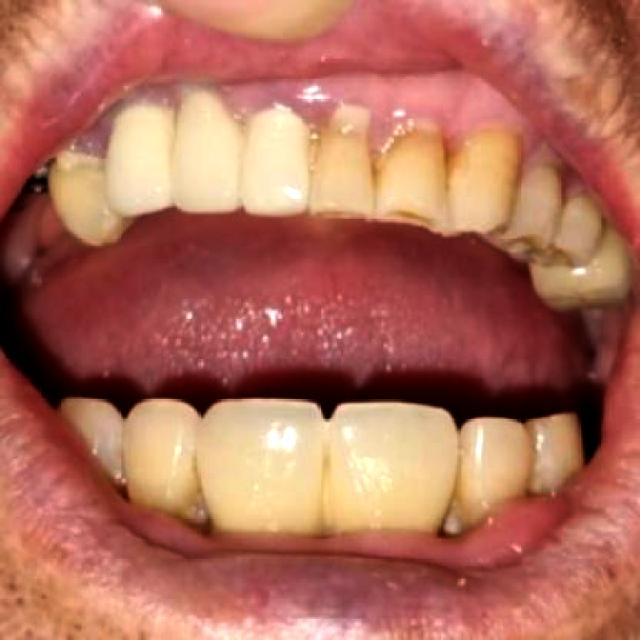Plaque: (77, 82, 528, 162), (504, 231, 544, 247)
